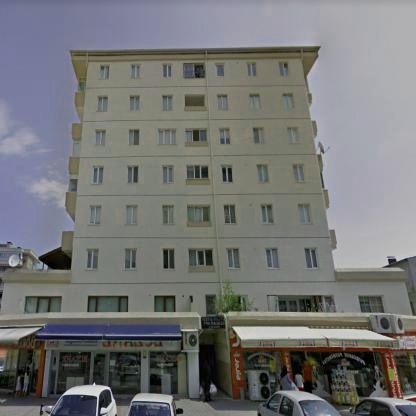door: (200, 344, 217, 387), (90, 352, 109, 386)
